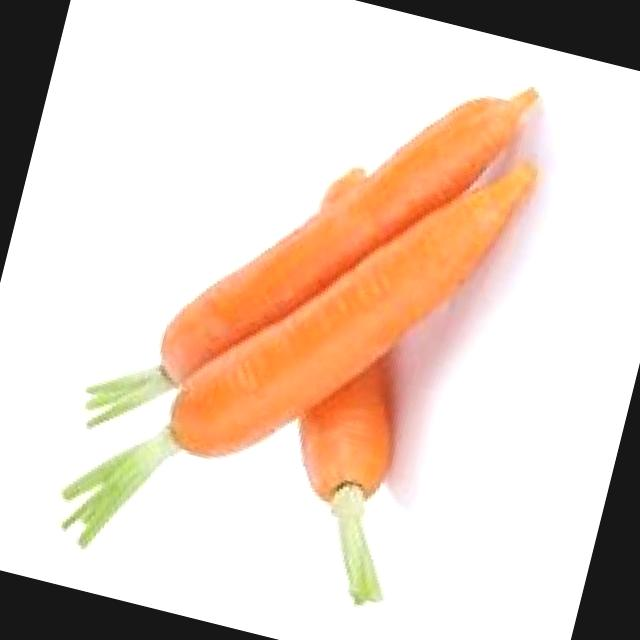carrot: (166, 161, 529, 458), (159, 95, 519, 389)
